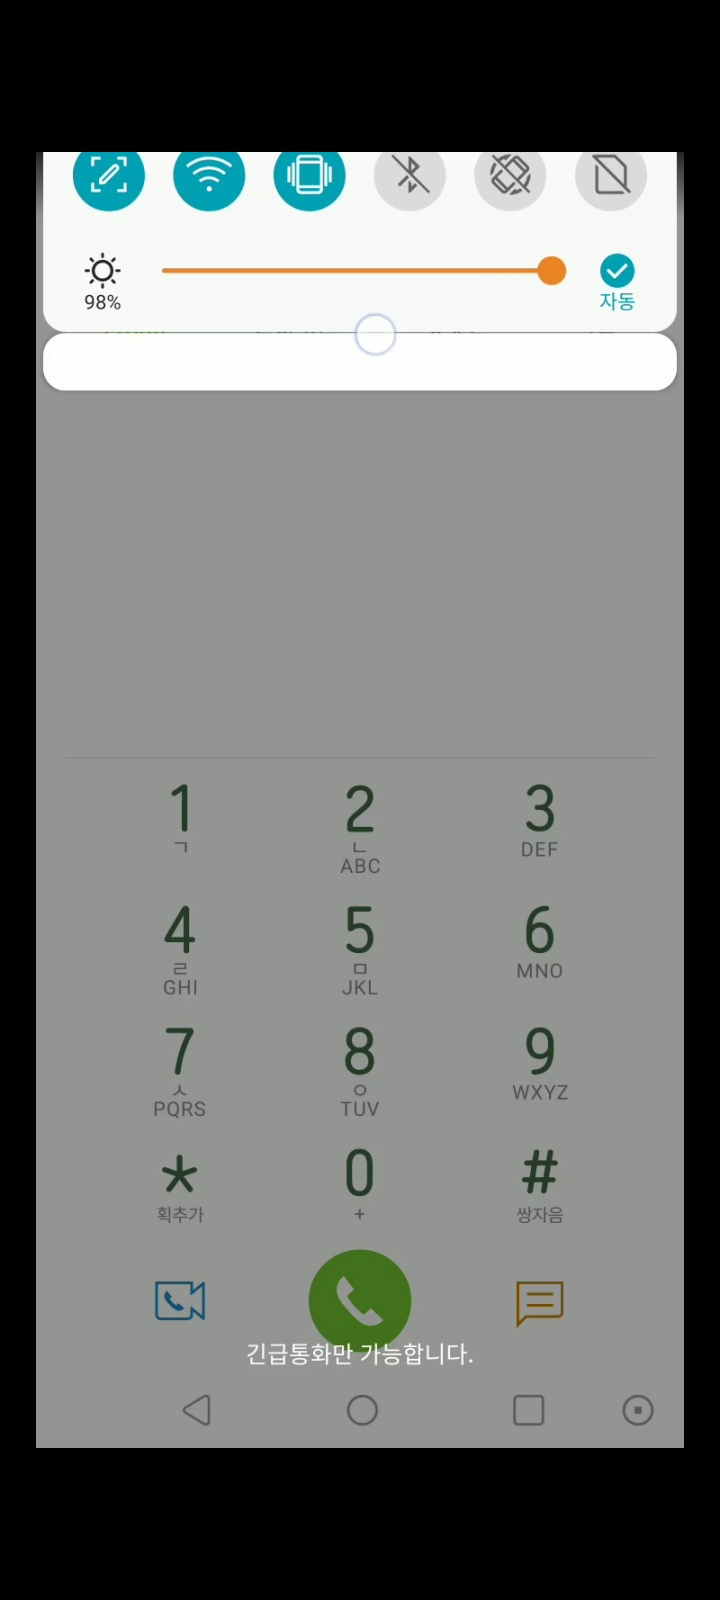Cursor: (354, 312, 399, 357)
